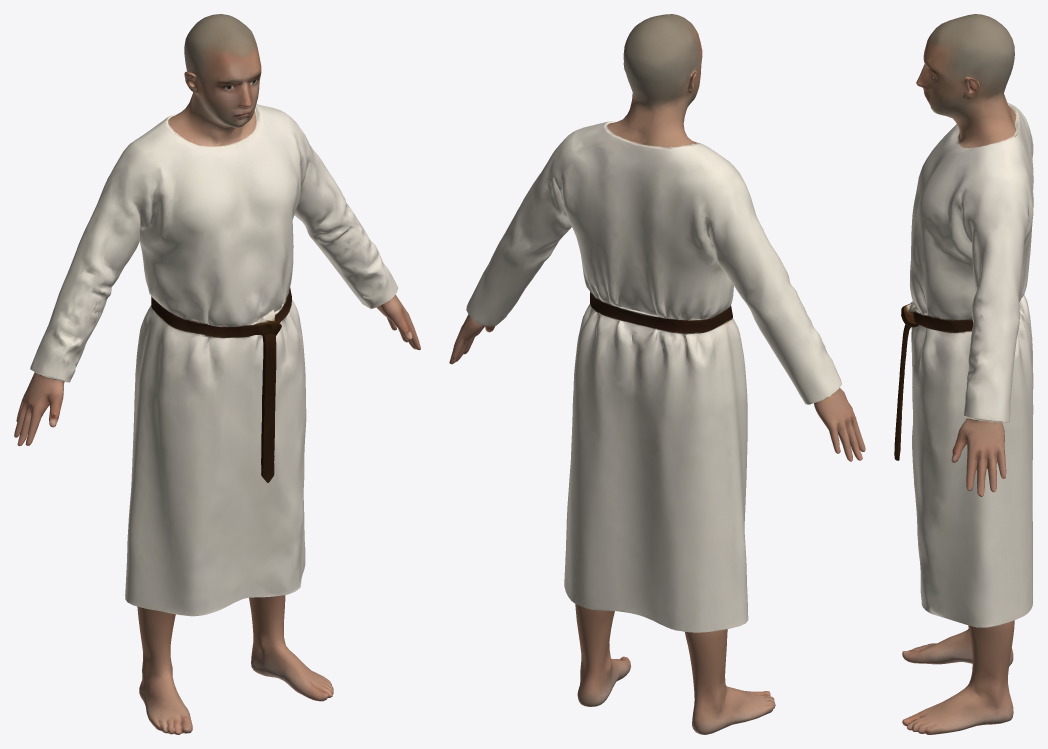
The model's file is metzora_1.glb.
The picture shows the model from 3 angles, left to right: view 1: azimuth 30°, elevation 25°; view 2: azimuth 150°, elevation 25°; view 3: azimuth 270°, elevation 25°; orthographic projection. The views are drawn at different scales.
Parts seen in each view (by area): view 1: Mesh; view 2: Mesh; view 3: Mesh.
Boxes of the visible parts, box(x1,y1,x2,y2) form: Mesh: box(14, 14, 420, 734); Mesh: box(449, 14, 865, 734); Mesh: box(894, 14, 1033, 734).
Bounding box in the file's own units: 1.17 × 1.9 × 0.3534.
Materials: 1 (1 with a texture image).
